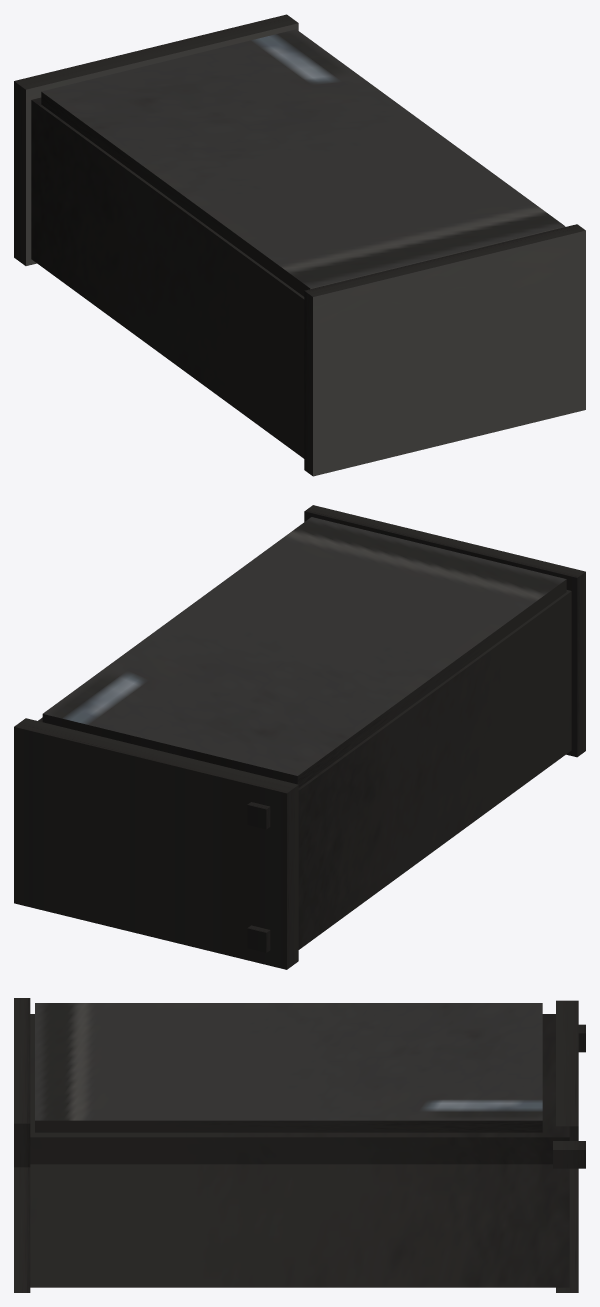
Rendered from pz_wardrobe_storage_01_dark_fancy_0_0.obj.
3 renders of one model, top to bottom at view 1: azimuth 30°, elevation 25°; view 2: azimuth 150°, elevation 25°; view 3: azimuth 270°, elevation 25°, orthographic. The views are drawn at different scales.
Bounding box in the file's own units: 0.995 × 0.625 × 1.91.
Materials: 1 (1 with a texture image).
